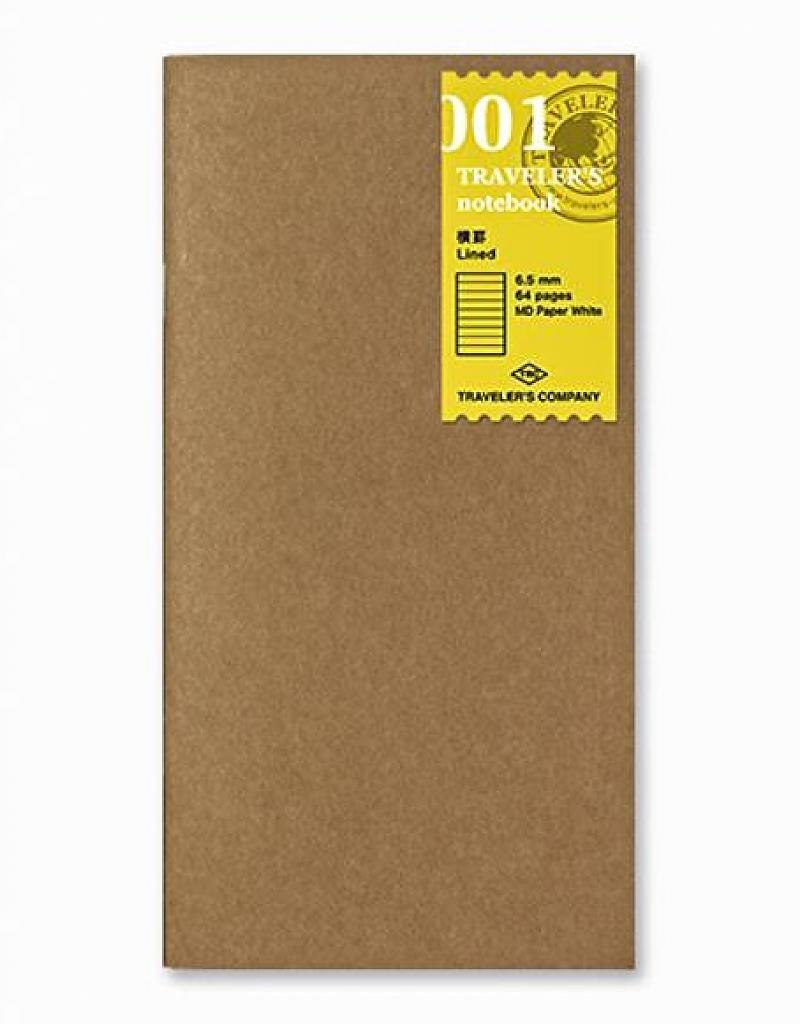Rec_Paper: (154, 57, 639, 968)
